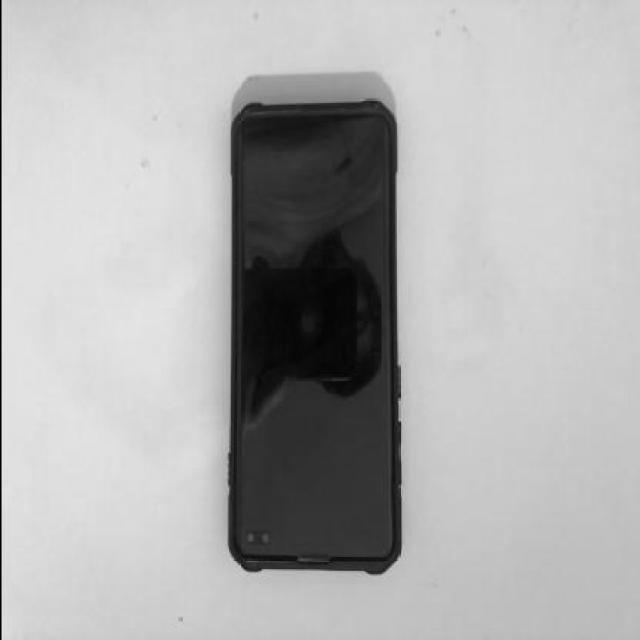fake: (227, 100, 401, 574)
